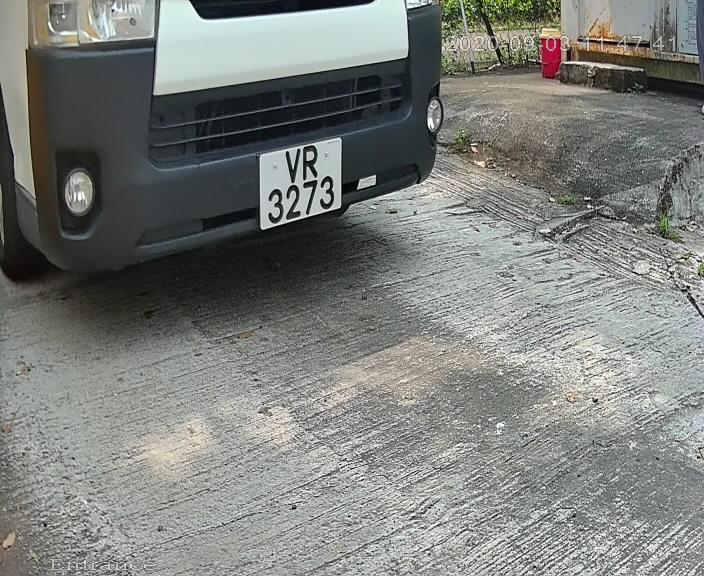Car: (29, 11, 491, 330)
License Plate: (249, 137, 359, 235)
